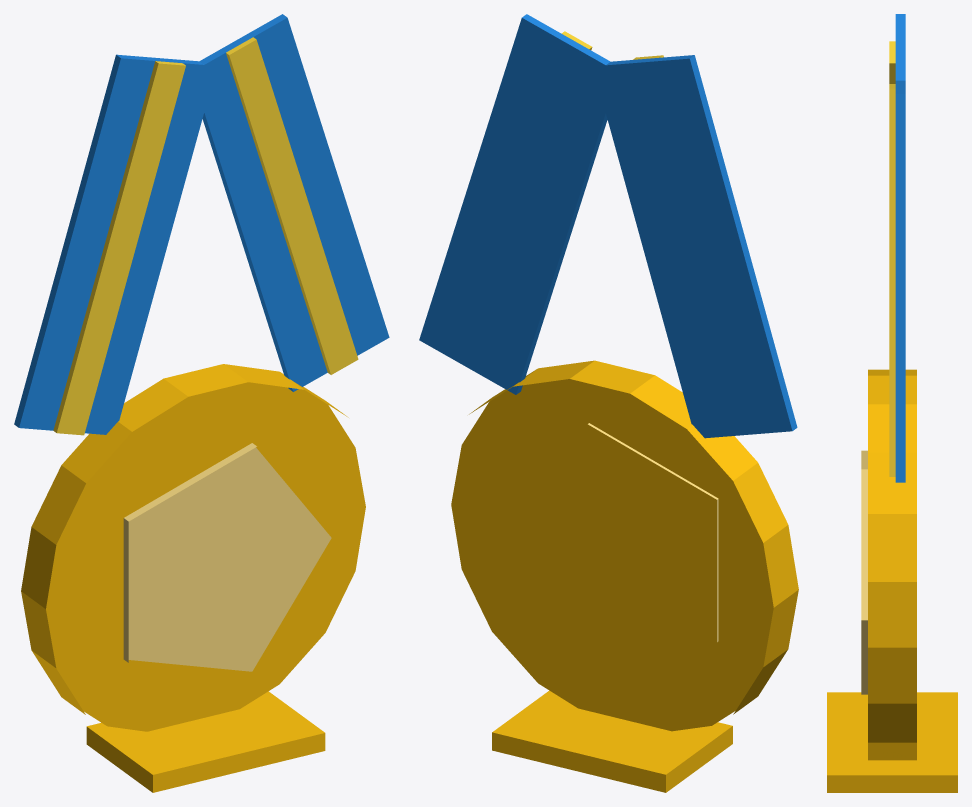
File: medalj.glb
3 views of the same model, side by side, from view 1: azimuth 30°, elevation 25°; view 2: azimuth 150°, elevation 25°; view 3: azimuth 270°, elevation 25° (orthographic). The views are drawn at different scales.
Parts seen in each view (by area): view 1: medalj; view 2: medalj; view 3: medalj.
Part boxes in pixels (bbox=[...]): medalj: bbox=[14, 14, 389, 792]; medalj: bbox=[419, 14, 798, 792]; medalj: bbox=[827, 14, 957, 792].
Bounding box in the file's own units: 0.2578 × 0.471 × 0.08.
